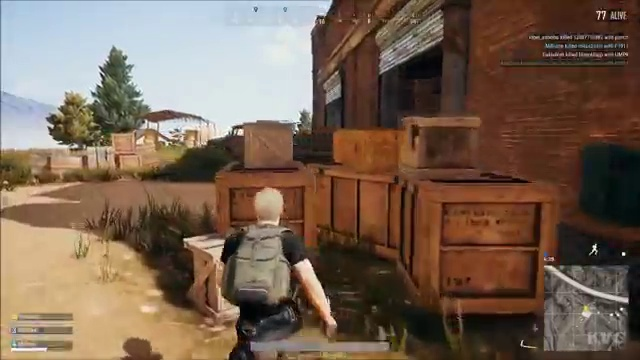Player: (219, 184, 329, 321)
